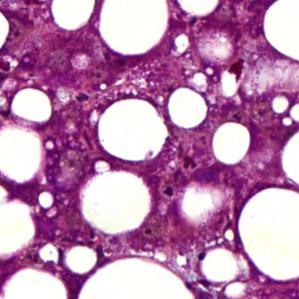steatosis: (98, 102, 165, 159), (213, 123, 251, 163), (167, 89, 206, 127)
